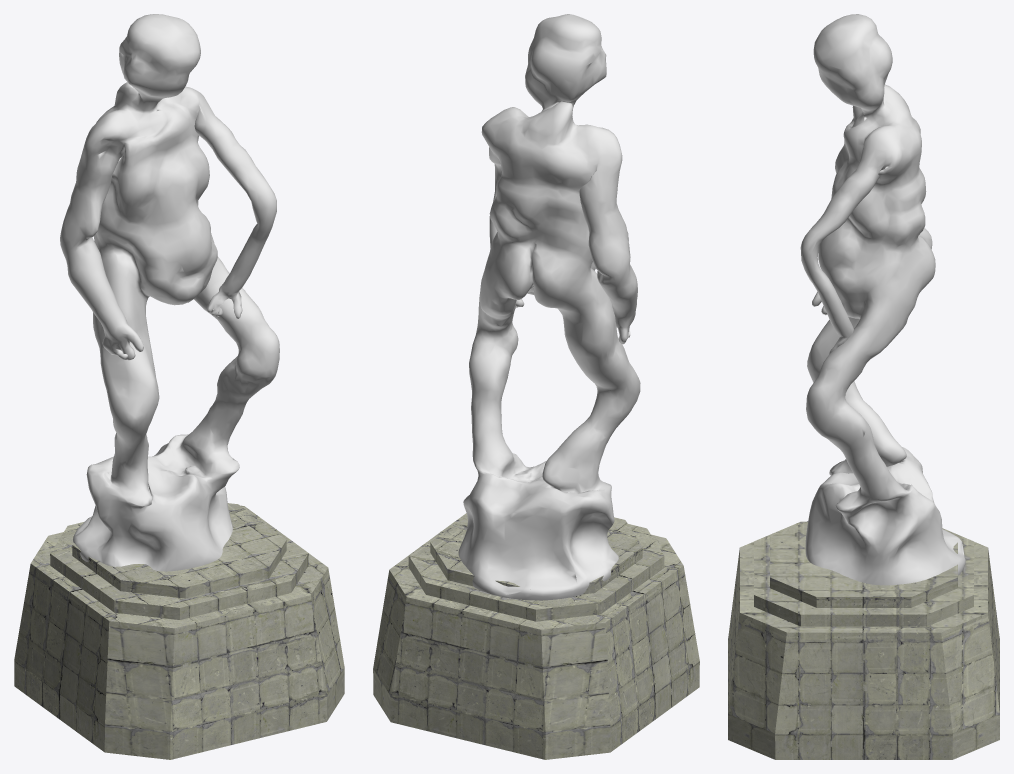
Rendered from SM_TerminalPalace_Statue_00.fbx.
3 views of the same model, side by side, from view 1: azimuth 30°, elevation 25°; view 2: azimuth 150°, elevation 25°; view 3: azimuth 270°, elevation 25° (orthographic).
Parts seen in each view (by area): view 1: SM_TerminalPalace_Statue_00; view 2: SM_TerminalPalace_Statue_00; view 3: SM_TerminalPalace_Statue_00.
Boxes of the visible parts, x1,y1,x2,y2 form: SM_TerminalPalace_Statue_00: [14, 14, 344, 759]; SM_TerminalPalace_Statue_00: [373, 14, 699, 759]; SM_TerminalPalace_Statue_00: [728, 14, 999, 759].
Size of the model in its own units: 235 by 639 by 235.
